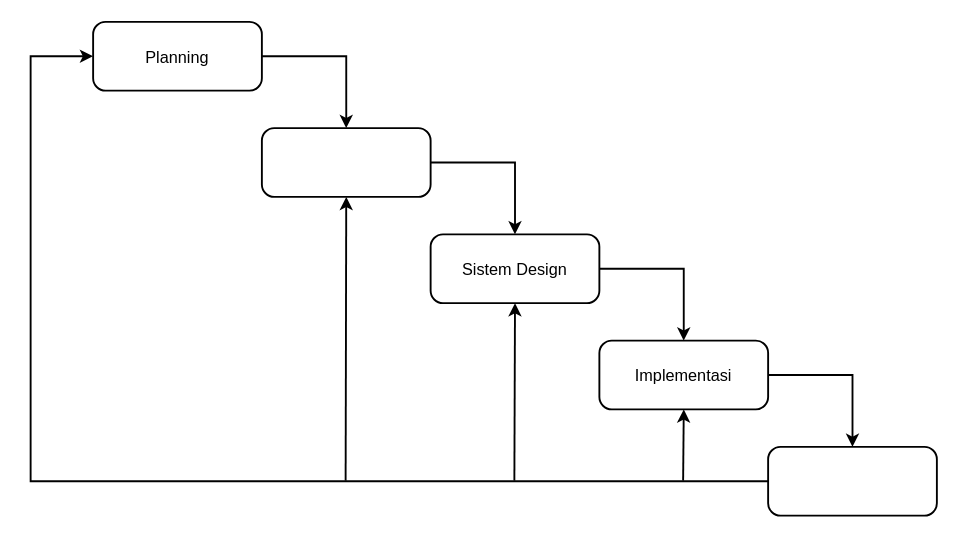
The diagram is 960 pixels wide and 539 high, and some of its shapes have lost their labels. Each missing label, with the centre of its shape:
Analisis Sistem: [345,162]
Maintenance: [852,480]
